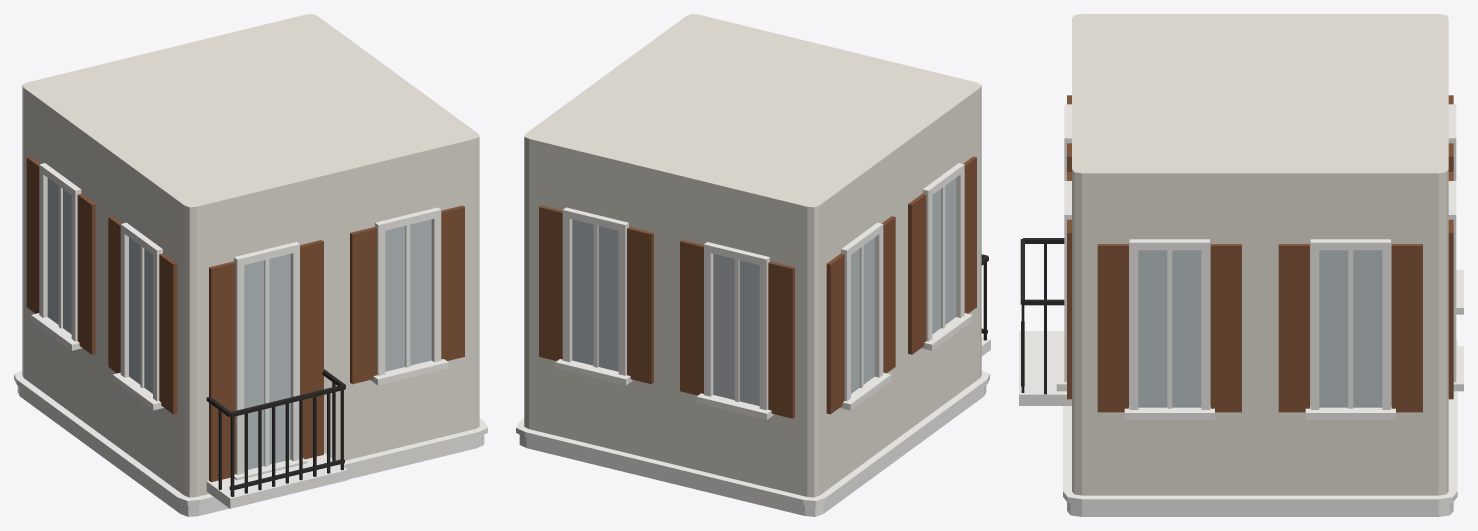
The model's file is townhouse_middle_floor.glb.
The picture shows the model from 3 angles, left to right: view 1: azimuth 30°, elevation 25°; view 2: azimuth 150°, elevation 25°; view 3: azimuth 270°, elevation 25°; orthographic projection. The views are drawn at different scales.
Visible parts, largest first — view 1: walls, front_window_left_glass, front_window_right_glass, front_window_left_shutter_left, front_window_left_shutter_right, front_window_right_shutter_left, bottom_ledge_lip, bottom_ledge, front_window_right_shutter_right, balcony_slab, left_window_left_glass, left_window_right_glass (+24 smaller); view 2: walls, back_window_left_glass, back_window_right_glass, bottom_ledge_lip, bottom_ledge, back_window_right_shutter_right, back_window_left_shutter_right, back_window_left_shutter_left, back_window_right_shutter_left, left_window_left_glass, left_window_right_glass, left_window_left_shutter_left (+21 smaller); view 3: walls, right_window_left_glass, right_window_right_glass, bottom_ledge_lip, right_window_left_shutter_left, right_window_right_shutter_left, right_window_left_shutter_right, right_window_right_shutter_right, bottom_ledge, balcony_slab, right_window_left_frame_left, right_window_right_frame_left (+12 smaller).
Part boxes in pixels (box(x1,y1,x2,y2)): walls: box(22, 14, 479, 497); front_window_left_glass: box(244, 254, 290, 470); front_window_right_glass: box(385, 219, 431, 371); front_window_left_shutter_left: box(209, 261, 235, 482); front_window_left_shutter_right: box(300, 240, 323, 459); front_window_right_shutter_left: box(350, 227, 376, 384); bottom_ledge_lip: box(14, 370, 487, 505); bottom_ledge: box(17, 386, 484, 516); front_window_right_shutter_right: box(441, 205, 464, 360); balcony_slab: box(206, 453, 347, 508); left_window_left_glass: box(47, 178, 71, 334); left_window_right_glass: box(129, 237, 152, 393); walls: box(524, 14, 981, 497); back_window_left_glass: box(572, 219, 618, 371); back_window_right_glass: box(713, 254, 759, 405); bottom_ledge_lip: box(516, 370, 989, 505); bottom_ledge: box(519, 385, 986, 516); back_window_right_shutter_right: box(768, 261, 794, 418); back_window_left_shutter_right: box(627, 227, 653, 384); back_window_left_shutter_left: box(539, 205, 562, 360); back_window_right_shutter_left: box(680, 240, 703, 395); left_window_left_glass: box(851, 237, 874, 393); left_window_right_glass: box(932, 178, 956, 333); left_window_left_shutter_left: box(826, 253, 844, 414); walls: box(1072, 14, 1448, 495); right_window_left_glass: box(1138, 250, 1201, 407); right_window_right_glass: box(1319, 250, 1382, 407); bottom_ledge_lip: box(1063, 339, 1457, 504); right_window_left_shutter_left: box(1097, 244, 1128, 412); right_window_right_shutter_left: box(1278, 244, 1309, 412); right_window_left_shutter_right: box(1210, 244, 1241, 412); right_window_right_shutter_right: box(1391, 244, 1422, 412); bottom_ledge: box(1067, 502, 1453, 516); balcony_slab: box(1019, 331, 1071, 405); right_window_left_frame_left: box(1129, 239, 1138, 409); right_window_right_frame_left: box(1310, 239, 1319, 409).
Size of the model in its own units: 3.24 by 3 by 3.54.
